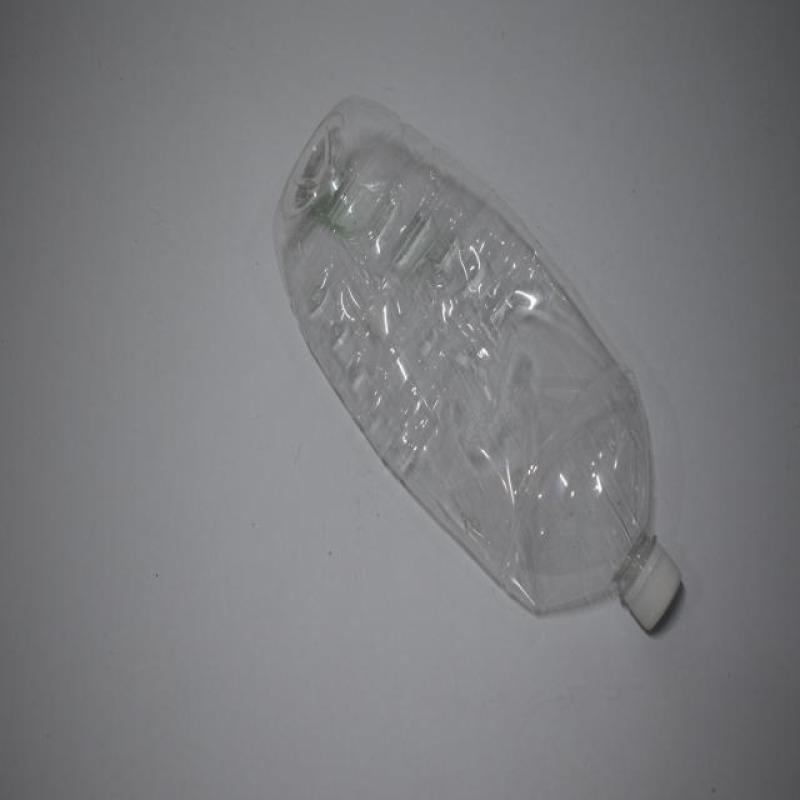botella: (273, 91, 687, 643)
